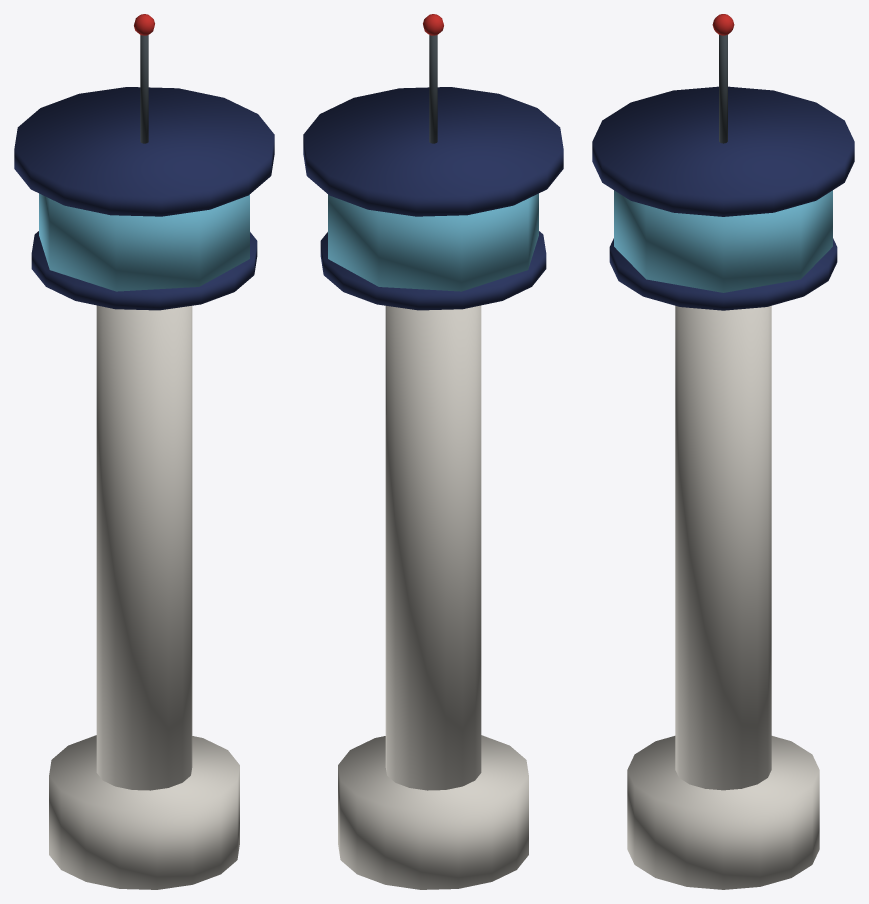
The model's file is control_tower.glb.
3 renders of one model, left to right at view 1: azimuth 30°, elevation 25°; view 2: azimuth 150°, elevation 25°; view 3: azimuth 270°, elevation 25°, orthographic.
Parts seen in each view (by area): view 1: control_tower; view 2: control_tower; view 3: control_tower.
Part boxes in pixels (box(x1,y1,x2,y2)): control_tower: box(14, 14, 274, 889); control_tower: box(303, 14, 563, 889); control_tower: box(592, 14, 854, 889).
Size of the model in its own units: 0.6 by 2.11 by 0.6.
